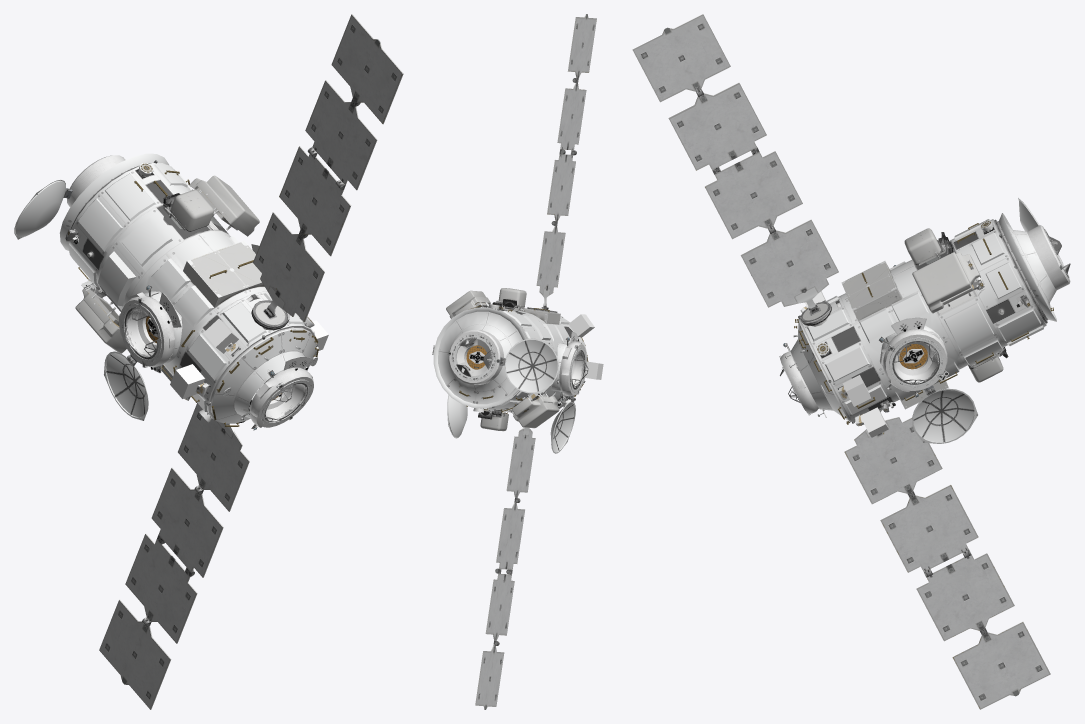
File: ihab.dae
3 renders of one model, left to right at view 1: azimuth 30°, elevation 25°; view 2: azimuth 150°, elevation 25°; view 3: azimuth 270°, elevation 25°, orthographic. The views are drawn at different scales.
Parts seen in each view (by area): view 1: I-Hab.001, I-Hab Radiator.001, NDS port active.008, NDS port active.010, NDS Shutter.008, NDS Shutter.006, NDS port passive.003; view 2: I-Hab Radiator.001, I-Hab.001, NDS Shutter.006, NDS port passive.003, NDS port active.008, NDS Shutter.008, NDS Shutter.007, NDS port passive hatch.003; view 3: I-Hab Radiator.001, I-Hab.001, NDS port active.009, NDS Shutter.007, NDS port passive.003, NDS port active.010.
Boxes of the visible parts, x1=… form: I-Hab.001: x1=59, y1=153, x2=328, y2=426; I-Hab Radiator.001: x1=99, y1=14, x2=403, y2=709; NDS port active.008: x1=119, y1=285, x2=181, y2=367; NDS port active.010: x1=240, y1=356, x2=313, y2=430; NDS Shutter.008: x1=104, y1=351, x2=148, y2=420; NDS Shutter.006: x1=14, y1=179, x2=66, y2=239; NDS port passive.003: x1=67, y1=155, x2=125, y2=207; I-Hab Radiator.001: x1=475, y1=14, x2=596, y2=709; I-Hab.001: x1=432, y1=288, x2=603, y2=431; NDS Shutter.006: x1=503, y1=338, x2=558, y2=393; NDS port passive.003: x1=447, y1=330, x2=503, y2=384; NDS port active.008: x1=556, y1=332, x2=588, y2=401; NDS Shutter.008: x1=550, y1=400, x2=575, y2=453; NDS Shutter.007: x1=447, y1=395, x2=467, y2=438; NDS port passive hatch.003: x1=466, y1=345, x2=486, y2=369; I-Hab Radiator.001: x1=632, y1=14, x2=1050, y2=709; I-Hab.001: x1=790, y1=213, x2=1056, y2=437; NDS port active.009: x1=879, y1=317, x2=947, y2=397; NDS Shutter.007: x1=912, y1=388, x2=977, y2=443; NDS port passive.003: x1=1027, y1=225, x2=1070, y2=290; NDS port active.010: x1=779, y1=343, x2=818, y2=415.
Bounding box in the file's own units: 5.73 × 11.38 × 20.52.
Materials: 3 (3 with a texture image).
